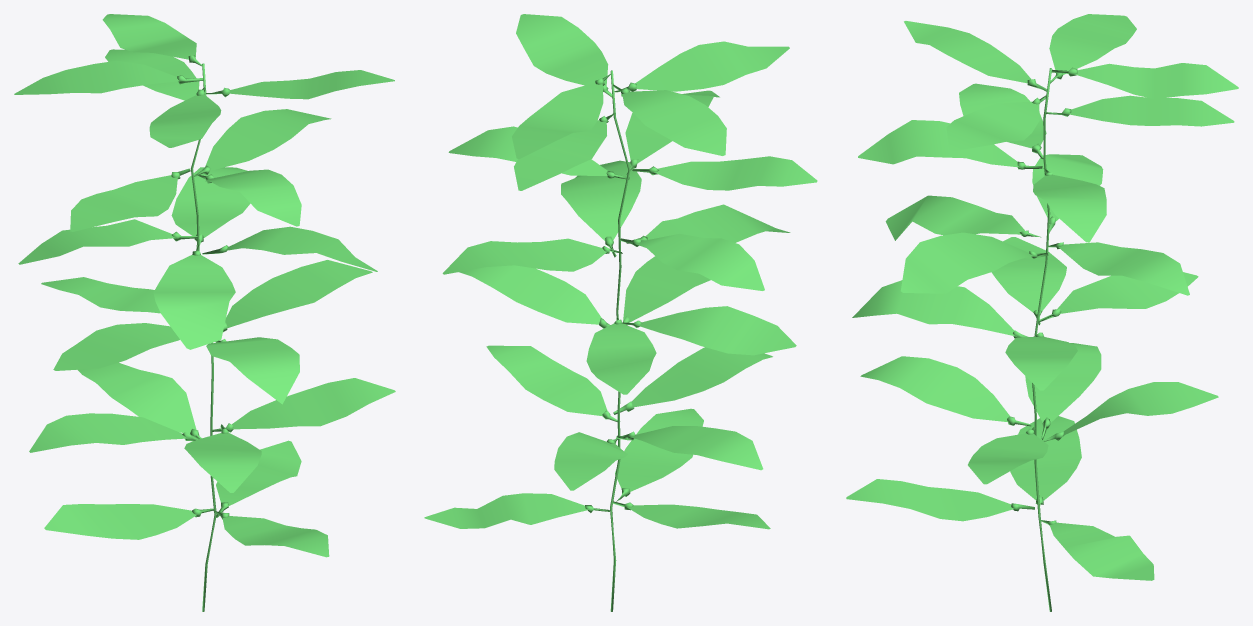
The model's file is LargeSeaweed.fbx.
3 views of the same model, side by side, from view 1: azimuth 30°, elevation 25°; view 2: azimuth 150°, elevation 25°; view 3: azimuth 270°, elevation 25° (orthographic).
Visible parts, largest first — view 1: Alga; view 2: Alga; view 3: Alga.
Boxes of the visible parts, x1,y1,x2,y2 form: Alga: [14, 14, 395, 611]; Alga: [424, 14, 817, 611]; Alga: [846, 14, 1238, 611].
Bounding box in the file's own units: 3191 × 4992 × 3267.
